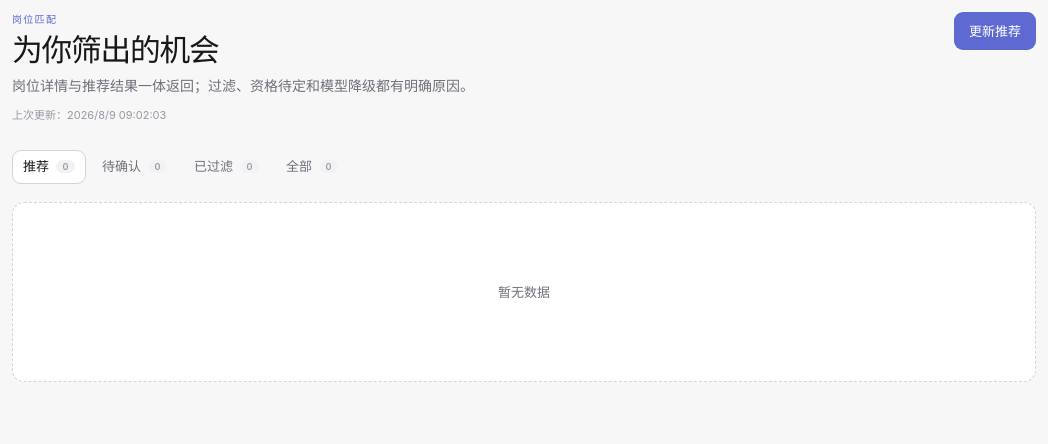
Scenario: 关键页面交互 › 推荐页显示上次更新时间并在任务完成后弹出提示
Expected: the text "上次更新：2026/8/9 09:02:03" is shown, [12,108,166,122]
Click the button "更新推荐": [995, 31] box [954,12,1036,50]
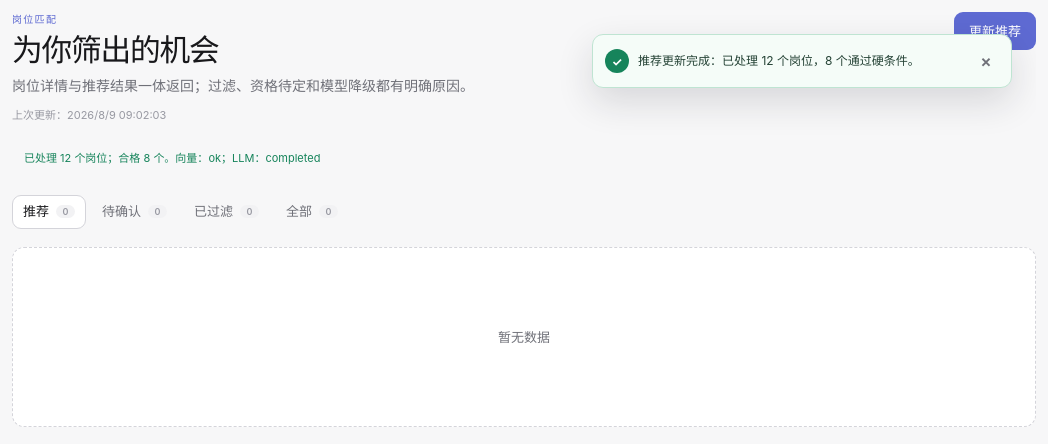
Now the text "推荐更新完成：已处理 12 个岗位，8 个通过硬条件。" is shown, box [638,52,964,70]
